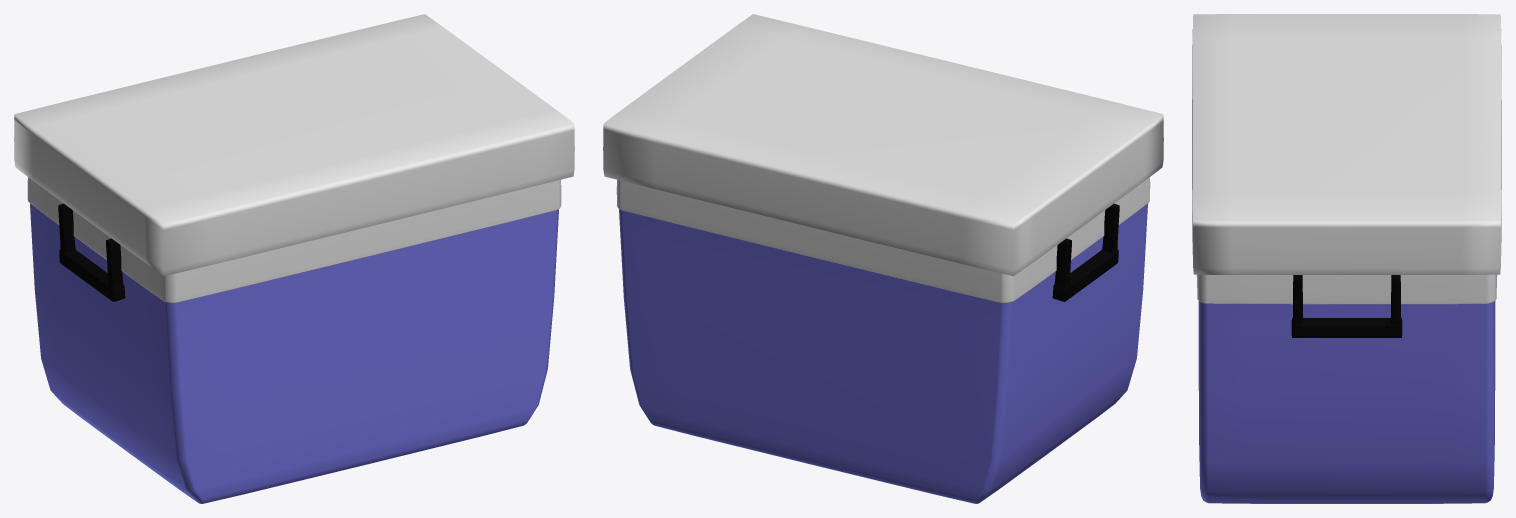
File: cooler.fbx
The picture shows the model from 3 angles, left to right: view 1: azimuth 30°, elevation 25°; view 2: azimuth 150°, elevation 25°; view 3: azimuth 270°, elevation 25°; orthographic projection. The views are drawn at different scales.
Visible parts, largest first — view 1: cooler; view 2: cooler; view 3: cooler.
Part boxes in pixels (box(x1,y1,x2,y2)): cooler: box(14, 14, 574, 503); cooler: box(603, 14, 1163, 503); cooler: box(1192, 14, 1501, 503).
Size of the model in its own units: 12.44 by 8.44 by 7.71.
